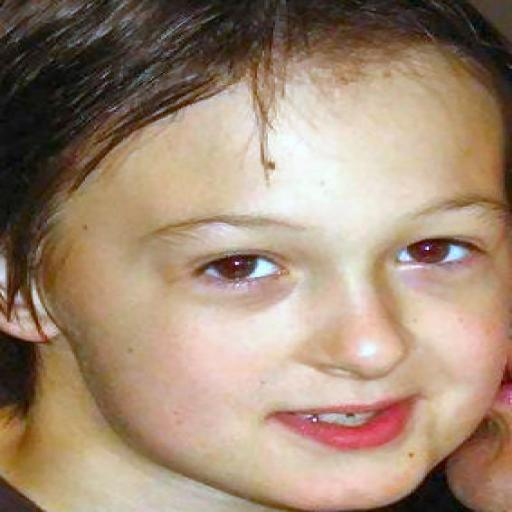Autism: (14, 13, 512, 491)
